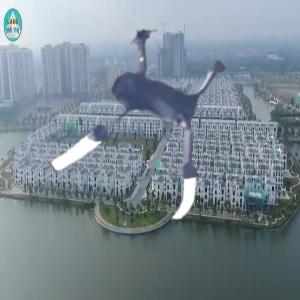drone: (31, 4, 257, 230)
